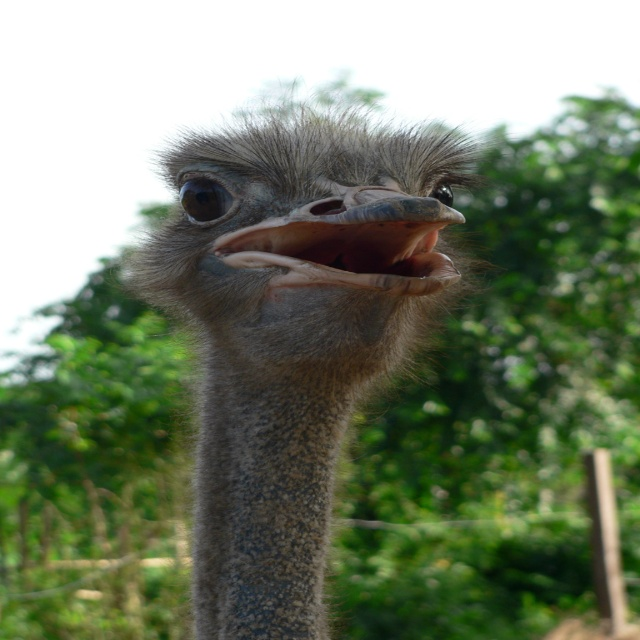Ostrich: (125, 106, 479, 640)
